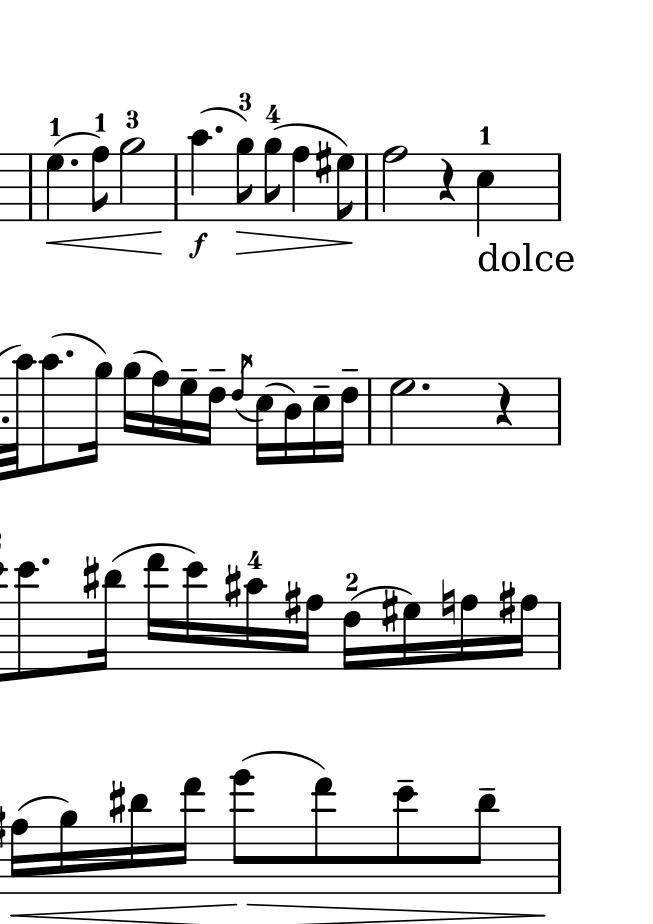1: (477, 124, 493, 146), (92, 112, 107, 135), (50, 115, 63, 136)
16_10: (243, 579, 267, 671)
16_11: (93, 570, 123, 673), (128, 793, 149, 895)
16_12: (183, 559, 208, 673)
16_13: (174, 772, 203, 896), (144, 554, 169, 671)
16_4: (282, 376, 303, 466)
16_5: (254, 375, 275, 469), (310, 374, 331, 467)
16_6: (332, 377, 360, 465), (201, 375, 227, 447), (342, 601, 363, 672)
16_7: (400, 600, 421, 674), (178, 373, 198, 449)
16_8: (511, 595, 539, 672), (297, 592, 324, 669), (459, 592, 479, 673), (150, 369, 170, 448), (9, 816, 29, 892)
16_9: (81, 360, 113, 464), (121, 359, 141, 450), (58, 805, 77, 895)
2: (346, 569, 357, 594)
2_7: (388, 377, 413, 447)
2_8: (382, 145, 408, 224)
2_9: (118, 136, 143, 223)
3: (124, 108, 140, 130), (237, 90, 252, 111)
32_10: (4, 352, 36, 483)
4: (265, 100, 280, 126), (247, 549, 263, 571)
4_10: (187, 128, 212, 221)
4_5: (475, 151, 495, 238)
4_7: (44, 151, 66, 222)
4_8: (290, 144, 311, 222)
8_10: (39, 352, 63, 470)
8_11: (466, 794, 498, 894)
8_12: (10, 561, 40, 680), (393, 785, 419, 895)
8_13: (312, 774, 334, 895)
8_14: (230, 768, 254, 896)
8_7: (334, 152, 356, 222)
8_8: (89, 145, 110, 222)
8_9: (263, 138, 283, 224), (235, 138, 255, 223)
Crescendo_hairpin: (47, 230, 162, 257)
Diminuendo_hairpin: (234, 230, 355, 255)
Natural: (440, 578, 456, 628)
Rests4: (437, 156, 456, 204), (494, 381, 513, 429)
Sharp: (81, 554, 100, 603), (108, 778, 126, 827), (283, 580, 302, 626), (380, 589, 399, 635), (314, 139, 332, 187), (224, 564, 242, 610), (498, 580, 516, 626)
Single_barline: (360, 154, 377, 219), (551, 378, 567, 445), (551, 827, 567, 893), (23, 155, 38, 220), (552, 155, 567, 220), (552, 602, 566, 669), (363, 379, 377, 443), (169, 156, 183, 219)
Slur: (244, 749, 323, 771), (274, 123, 349, 146), (111, 543, 196, 562), (52, 330, 107, 356), (16, 795, 69, 814), (351, 586, 411, 600), (199, 106, 248, 123), (52, 133, 100, 150), (263, 380, 297, 394), (133, 349, 163, 364)
dot: (419, 380, 431, 392), (39, 556, 51, 568), (64, 347, 75, 360), (212, 124, 223, 136), (68, 156, 79, 168)
f: (187, 232, 210, 259)
